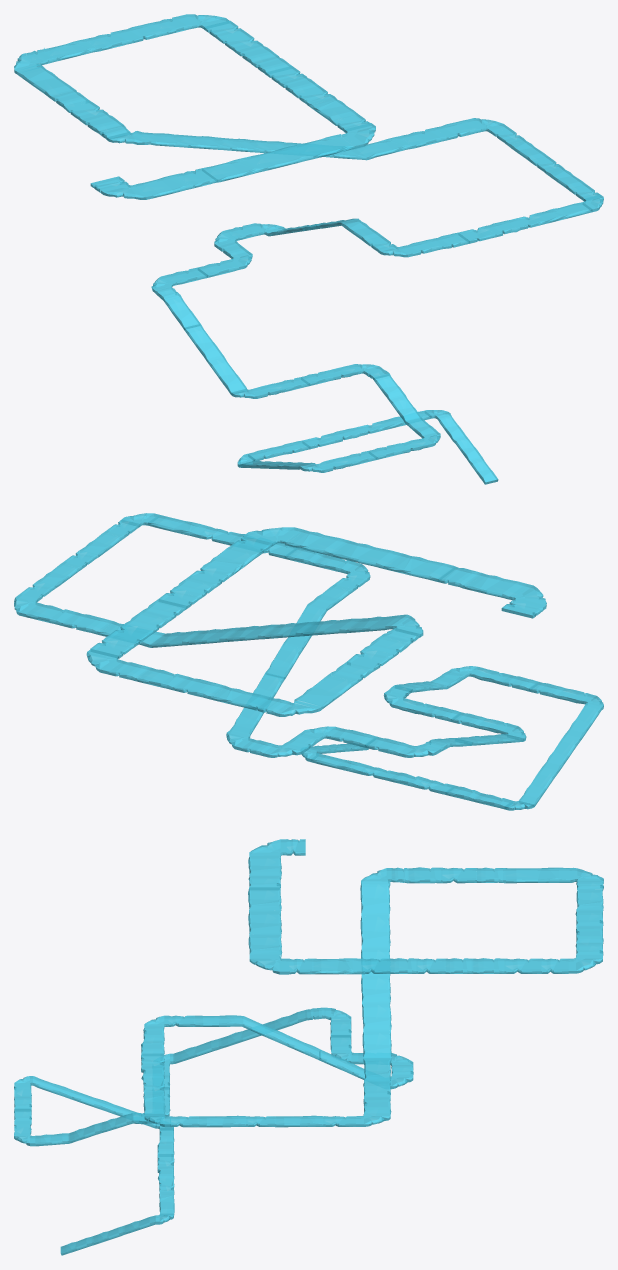
File: Pathway_2.FBX
3 views of the same model, one above another, from view 1: azimuth 30°, elevation 25°; view 2: azimuth 150°, elevation 25°; view 3: azimuth 270°, elevation 25° (orthographic). The views are drawn at different scales.
Parts seen in each view (by area): view 1: Pathway_Straight_1__8_, Pathway_Straight_1__12_, Pathway_Straight_1__1_, Pathway_Straight_1, Pathway_Straight_1__7_, Pathway_Straight_1__2_, Pathway_Straight_1__3_001, Pathway_Straight_1__3_, Pathway_Straight_1__12__2, Pathway_Straight_1__13__1, Pathway_Straight_1__2_001, Pathway_Straight_1__11__2; view 2: Pathway_Straight_1__8_, Pathway_Straight_1__12_, Pathway_Straight_1__1_, Pathway_Straight_1__7_, Pathway_Straight_1, Pathway_Straight_1__2_, Pathway_Straight_1__3_, Pathway_Straight_1__2_001, Pathway_Corner_2, Pathway_Straight_2__11_001, Pathway_Straight_2__11_, Pathway_Straight_1__5_ (+46 smaller); view 3: Pathway_Straight_1__5_, Pathway_Straight_1__8_, Pathway_Straight_1__4_, Pathway_Straight_1__10_, Pathway_Straight_1__9_, Pathway_Straight_1__11_, Pathway_Straight_1__12_, Pathway_Straight_1__1_, Pathway_Straight_1__2_, Pathway_Straight_1__7_, Pathway_Straight_1, Pathway_Straight_1__3_001 (+8 smaller).
Boxes of the visible parts, x1=… form: Pathway_Straight_1__8_: x1=16, y1=64, x2=75, y2=98; Pathway_Straight_1__12_: x1=250, y1=144, x2=314, y2=170; Pathway_Straight_1__1_: x1=202, y1=156, x2=266, y2=182; Pathway_Straight_1: x1=136, y1=174, x2=194, y2=198; Pathway_Straight_1__7_: x1=299, y1=134, x2=356, y2=158; Pathway_Straight_1__2_: x1=307, y1=96, x2=358, y2=123; Pathway_Straight_1__3_001: x1=354, y1=135, x2=415, y2=159; Pathway_Straight_1__3_: x1=45, y1=38, x2=100, y2=61; Pathway_Straight_1__12__2: x1=184, y1=324, x2=223, y2=361; Pathway_Straight_1__13__1: x1=207, y1=356, x2=246, y2=394; Pathway_Straight_1__2_001: x1=536, y1=202, x2=592, y2=223; Pathway_Straight_1__11__2: x1=164, y1=295, x2=200, y2=329; Pathway_Straight_1__8_: x1=294, y1=672, x2=358, y2=709; Pathway_Straight_1__12_: x1=331, y1=540, x2=401, y2=569; Pathway_Straight_1__1_: x1=385, y1=553, x2=454, y2=581; Pathway_Straight_1__7_: x1=285, y1=529, x2=348, y2=556; Pathway_Straight_1: x1=463, y1=572, x2=527, y2=599; Pathway_Straight_1__2_: x1=204, y1=545, x2=259, y2=575; Pathway_Straight_1__3_: x1=209, y1=685, x2=270, y2=710; Pathway_Straight_1__2_001: x1=148, y1=514, x2=210, y2=537; Pathway_Corner_2: x1=243, y1=527, x2=301, y2=545; Pathway_Straight_2__11_001: x1=24, y1=603, x2=76, y2=625; Pathway_Straight_2__11_: x1=136, y1=667, x2=187, y2=690; Pathway_Straight_1__5_: x1=301, y1=618, x2=362, y2=636; Pathway_Straight_1__5_: x1=360, y1=914, x2=390, y2=949; Pathway_Straight_1__8_: x1=503, y1=867, x2=571, y2=883; Pathway_Straight_1__4_: x1=360, y1=881, x2=390, y2=915; Pathway_Straight_1__10_: x1=362, y1=1002, x2=391, y2=1032; Pathway_Straight_1__9_: x1=361, y1=975, x2=390, y2=1004; Pathway_Straight_1__11_: x1=362, y1=1030, x2=391, y2=1059; Pathway_Straight_1__12_: x1=248, y1=910, x2=281, y2=936; Pathway_Straight_1__1_: x1=248, y1=887, x2=281, y2=912; Pathway_Straight_1__2_: x1=312, y1=958, x2=361, y2=974; Pathway_Straight_1__7_: x1=248, y1=934, x2=282, y2=957; Pathway_Straight_1: x1=248, y1=855, x2=281, y2=877; Pathway_Straight_1__3_001: x1=363, y1=1058, x2=391, y2=1083.
Bounding box in the file's own units: 4921 × 2969 × 5684.
